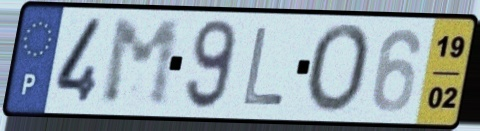4: (51, 13, 107, 109)
6: (370, 26, 423, 115)
9: (182, 17, 240, 112)
L: (239, 24, 287, 108)
M: (100, 17, 183, 110)
O: (304, 20, 375, 117)
